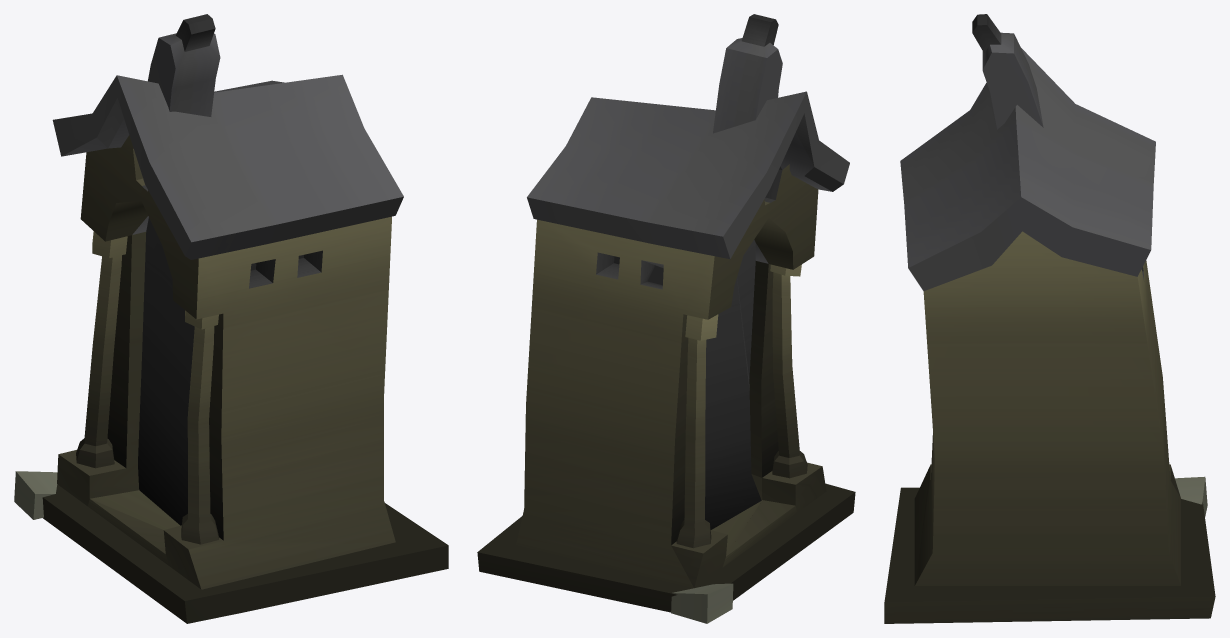
Rendered from ea_bld_monument_1c_pre__1__lev1.glb.
The picture shows the model from 3 angles, left to right: view 1: azimuth 30°, elevation 25°; view 2: azimuth 150°, elevation 25°; view 3: azimuth 270°, elevation 25°; orthographic projection. The views are drawn at different scales.
Visible parts, largest first — view 1: ea_bld_monument_1c_pre__1__lev1; view 2: ea_bld_monument_1c_pre__1__lev1; view 3: ea_bld_monument_1c_pre__1__lev1.
Part boxes in pixels (x1,y1,x2,y2): ea_bld_monument_1c_pre__1__lev1: (14,14,448,623); ea_bld_monument_1c_pre__1__lev1: (477,14,855,623); ea_bld_monument_1c_pre__1__lev1: (884,14,1215,623).
Bounding box in the file's own units: 3.63 × 7.36 × 4.28.
1 material, 1 textured.
